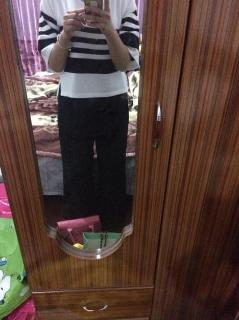long sleeve top: (38, 0, 140, 98)
trousers: (58, 76, 129, 231)
